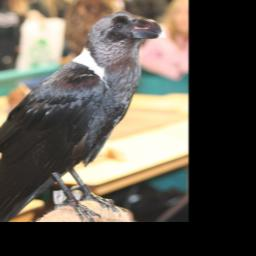Crow: (0, 10, 166, 222)
